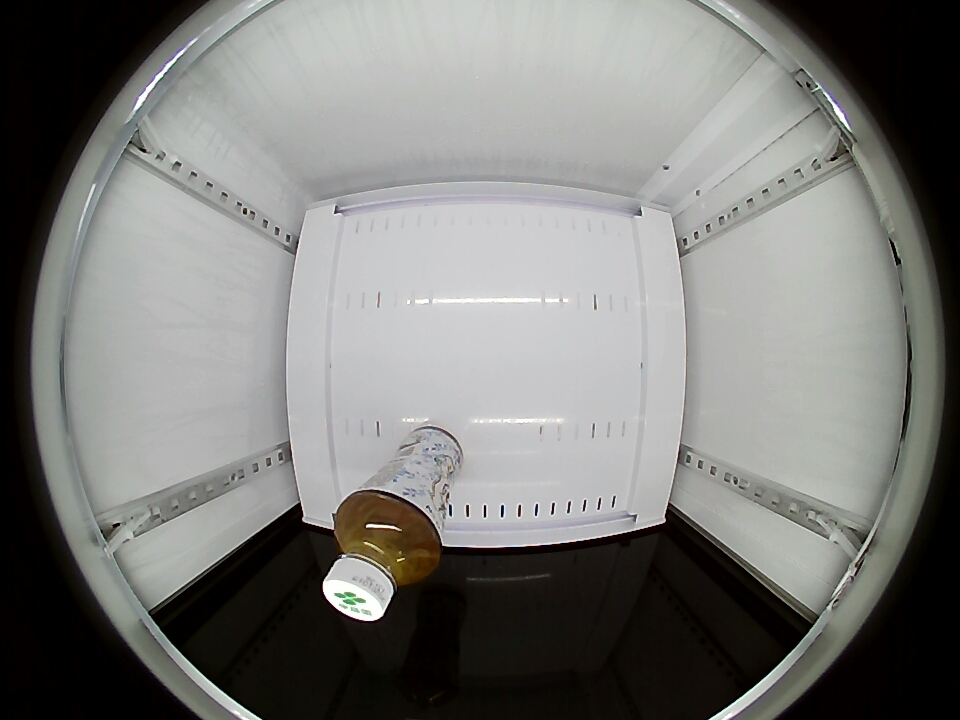baicha: (323, 491, 442, 621)
